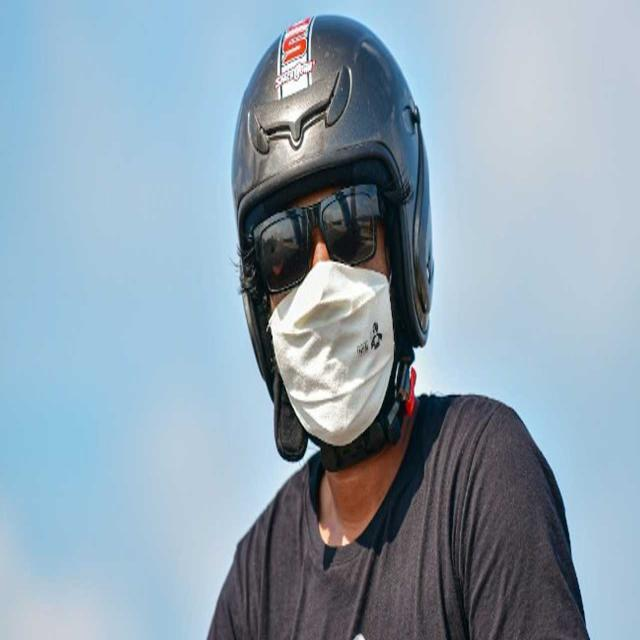3-4-helmet: (230, 17, 432, 412)
